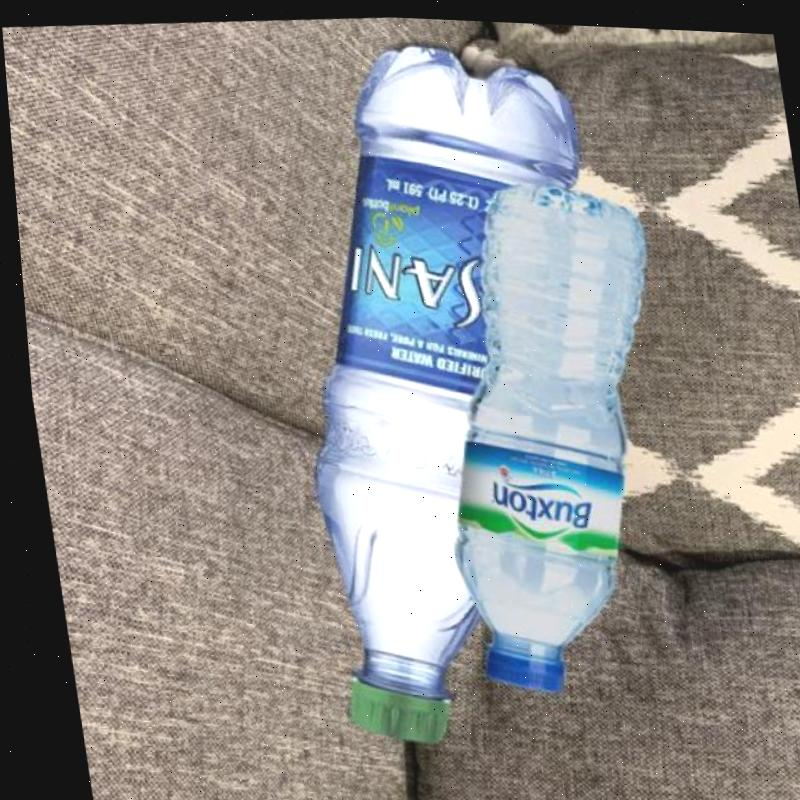botella: (244, 22, 663, 756), (392, 170, 700, 694)
